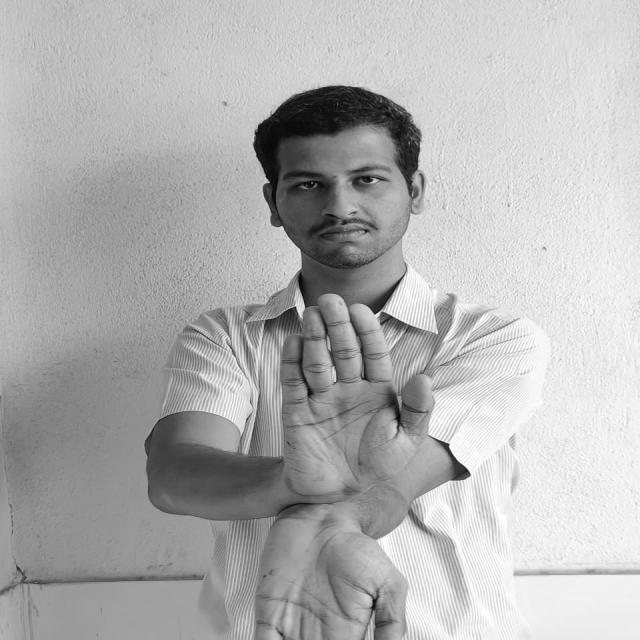Morning: (259, 291, 437, 640)
